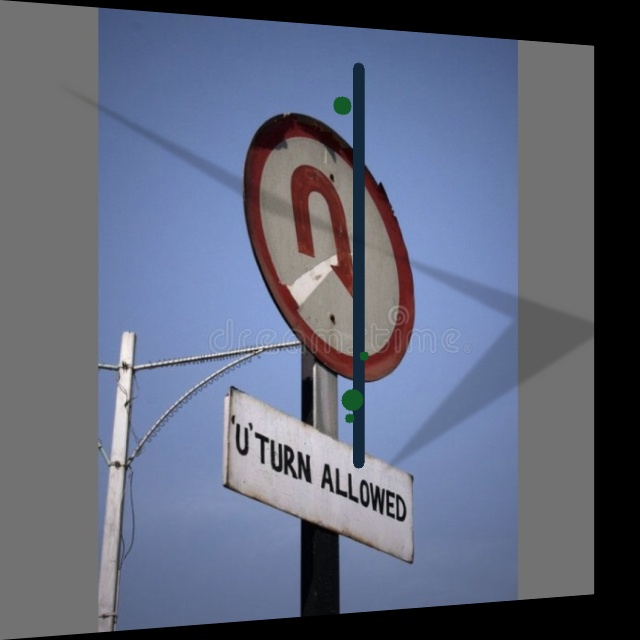U_Turn_Ahead: (246, 97, 433, 385)
